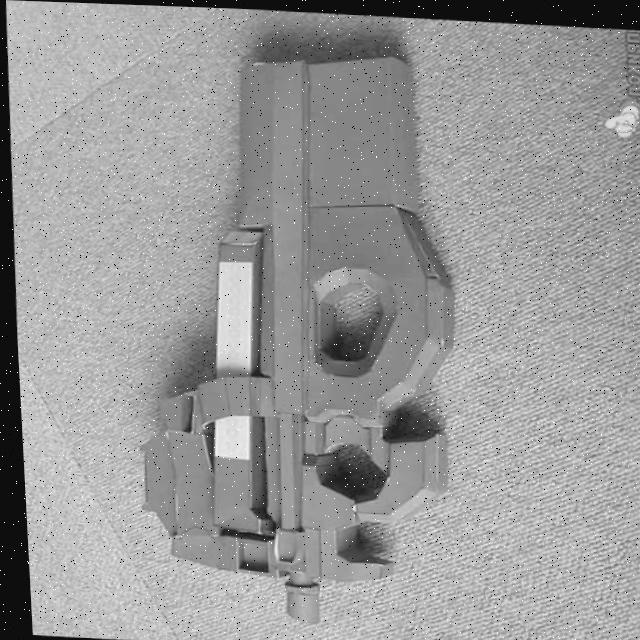firearm: (110, 37, 464, 630)
